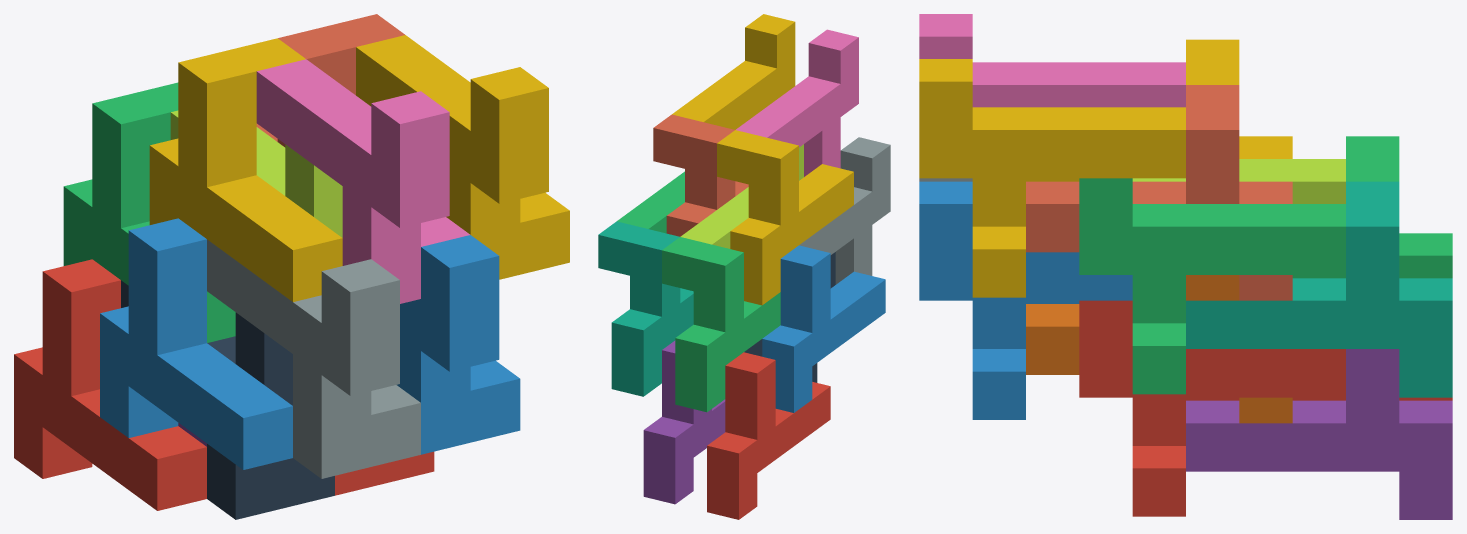
Rendered from tiling.obj.
The picture shows the model from 3 angles, left to right: view 1: azimuth 30°, elevation 25°; view 2: azimuth 150°, elevation 25°; view 3: azimuth 270°, elevation 25°; orthographic projection. The views are drawn at different scales.
Parts seen in each view (by area): view 1: copy_1_domain_2, copy_2_domain_2, copy_2_domain_4, copy_1_domain_4, copy_2_domain_8, copy_1_domain_1, copy_2_domain_6, copy_1_domain_3, copy_2_domain_1, copy_2_domain_3, copy_1_domain_8, copy_2_domain_5; view 2: copy_1_domain_4, copy_1_domain_3, copy_1_domain_2, copy_1_domain_1, copy_1_domain_7, copy_2_domain_4, copy_2_domain_8, copy_1_domain_5, copy_2_domain_2, copy_1_domain_8, copy_2_domain_3, copy_2_domain_7 (+1 smaller); view 3: copy_2_domain_8, copy_2_domain_7, copy_1_domain_7, copy_1_domain_5, copy_2_domain_5, copy_2_domain_6, copy_1_domain_8, copy_2_domain_4, copy_1_domain_6, copy_1_domain_3, copy_1_domain_4, copy_2_domain_3 (+1 smaller).
Boxes of the visible parts, box(x1,y1,x2,y2) form: copy_1_domain_2: box(100, 218, 292, 469); copy_2_domain_2: box(207, 239, 420, 478); copy_2_domain_4: box(256, 59, 470, 303); copy_1_domain_4: box(149, 38, 342, 301); copy_2_domain_8: box(356, 35, 569, 279); copy_1_domain_1: box(14, 259, 206, 510); copy_2_domain_6: box(397, 235, 520, 454); copy_1_domain_3: box(63, 82, 235, 342); copy_2_domain_1: box(121, 280, 334, 519); copy_2_domain_3: box(170, 110, 342, 237); copy_1_domain_8: box(256, 14, 404, 147); copy_2_domain_5: box(335, 451, 434, 495); copy_1_domain_4: box(717, 130, 853, 305); copy_1_domain_3: box(662, 237, 780, 412); copy_1_domain_2: box(762, 245, 885, 412); copy_1_domain_1: box(707, 352, 830, 519); copy_1_domain_7: box(598, 221, 693, 396); copy_2_domain_4: box(736, 29, 858, 176); copy_2_domain_8: box(672, 14, 795, 129); copy_1_domain_5: box(643, 340, 725, 504); copy_2_domain_2: box(799, 137, 890, 284); copy_1_domain_8: box(653, 114, 748, 236); copy_2_domain_3: box(680, 144, 803, 248); copy_2_domain_7: box(617, 171, 684, 233); copy_2_domain_8: box(919, 59, 1185, 297); copy_2_domain_7: box(1079, 178, 1345, 394); copy_1_domain_7: box(1186, 181, 1452, 397); copy_1_domain_5: box(1186, 349, 1452, 519); copy_2_domain_5: box(1079, 300, 1345, 516); copy_2_domain_6: box(919, 181, 1132, 419); copy_1_domain_8: box(1026, 85, 1292, 300); copy_2_domain_4: box(919, 14, 1185, 107); copy_1_domain_6: box(1026, 275, 1292, 423); copy_1_domain_3: box(1292, 136, 1452, 278); copy_1_domain_4: box(1026, 39, 1292, 181); copy_2_domain_3: box(1132, 159, 1345, 203).
Bounding box in the file's own units: 6 × 10 × 10.
